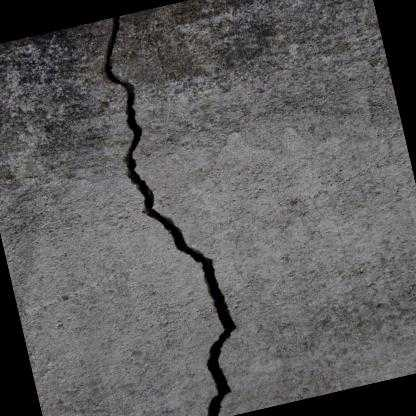crack: (104, 15, 237, 416)
